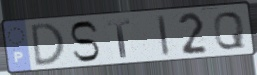2: (177, 11, 212, 57)
D: (30, 22, 67, 69)
I: (156, 13, 171, 57)
Q: (212, 10, 247, 51)
S: (68, 20, 101, 64)
T: (106, 18, 133, 59)
